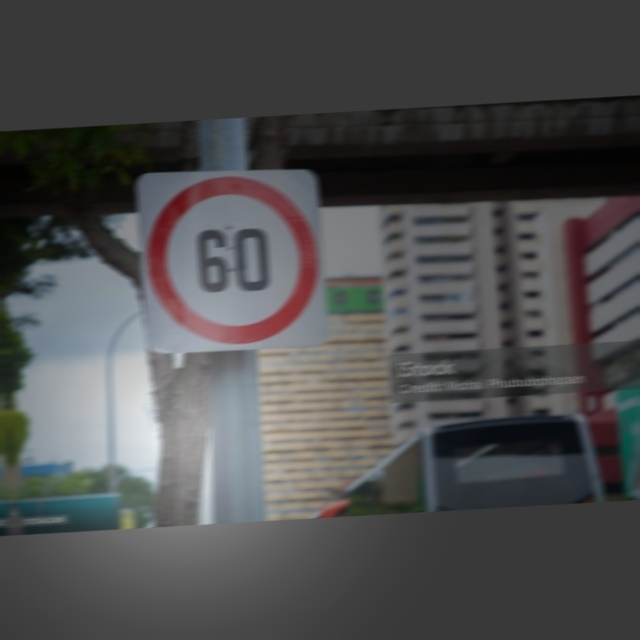Speed_Limit_60: (138, 166, 330, 358)
